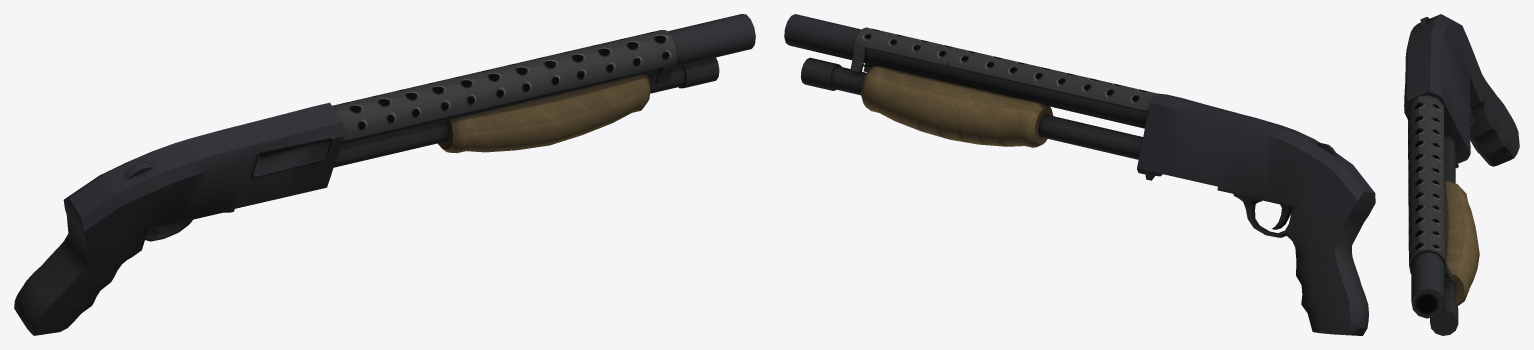
File: shotgun_000026.obj
3 renders of one model, left to right at view 1: azimuth 30°, elevation 25°; view 2: azimuth 150°, elevation 25°; view 3: azimuth 270°, elevation 25°, orthographic. The views are drawn at different scales.
Visible parts, largest first — view 1: mesh_Cube.001; view 2: mesh_Cube.001; view 3: mesh_Cube.001.
Part boxes in pixels (bbox=[...]): mesh_Cube.001: bbox=[14, 14, 755, 335]; mesh_Cube.001: bbox=[784, 14, 1375, 335]; mesh_Cube.001: bbox=[1404, 14, 1519, 335].
Size of the model in its own units: 1.89 by 0.5083 by 0.3012.
1 material, 1 textured.
